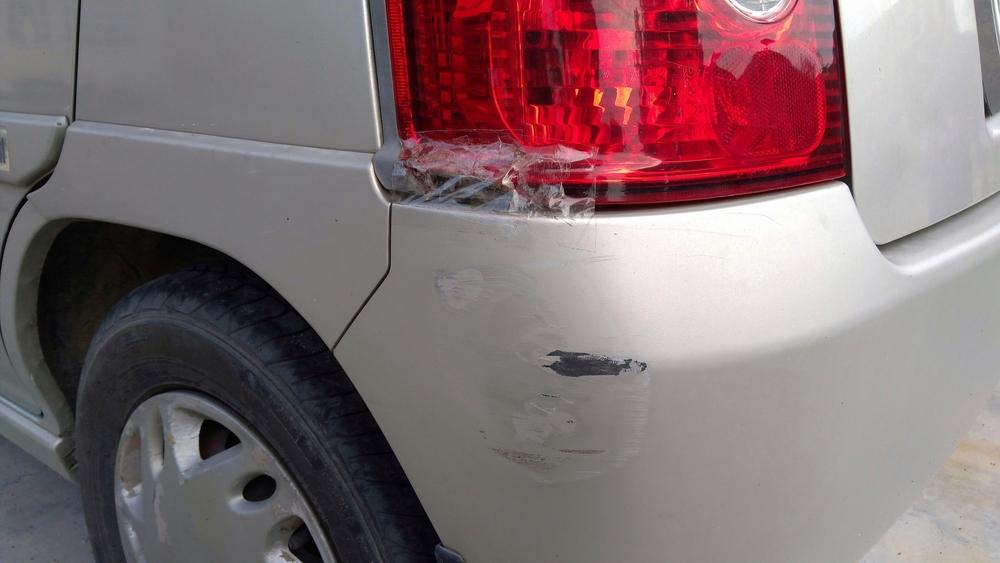scratch: (422, 219, 653, 488)
